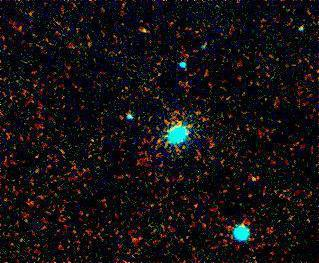star: (130, 17, 160, 47)
